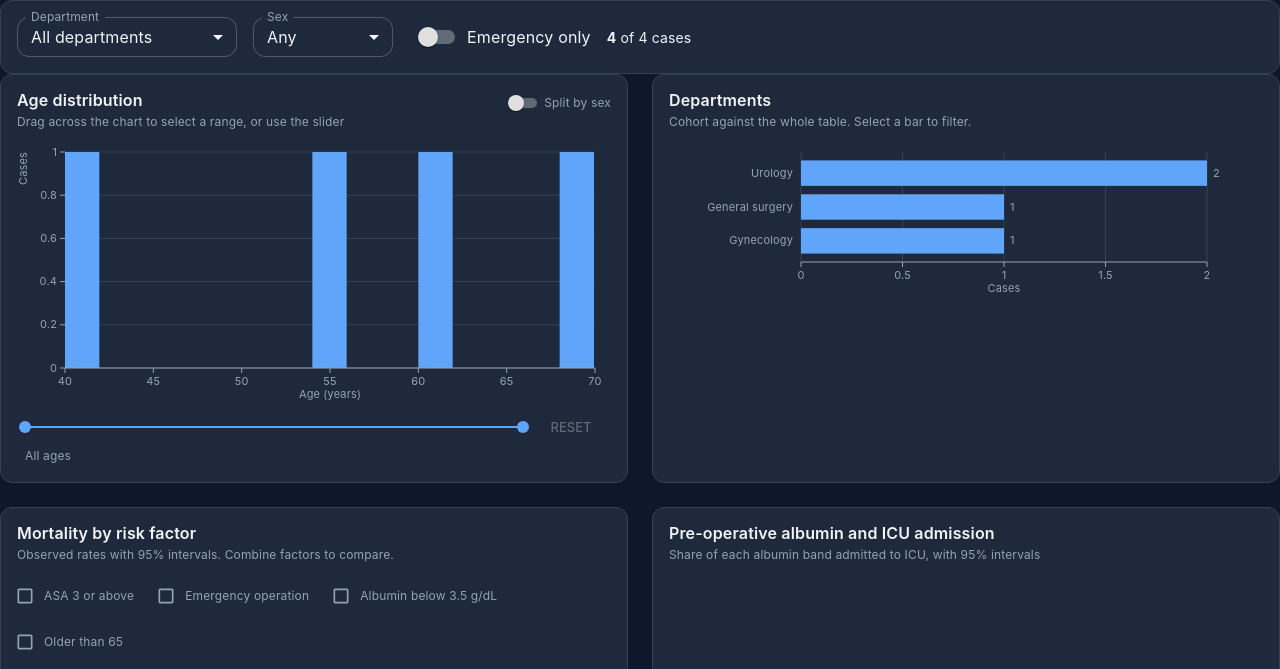
Scenario: DashboardContent › narrows the cohort when a filter is applied
Expected: the text "4 of 4 cases" is shown, [607,26,691,48]
Click the dropdown labelled "department".
click(92, 36)  # box [31,26,152,46]
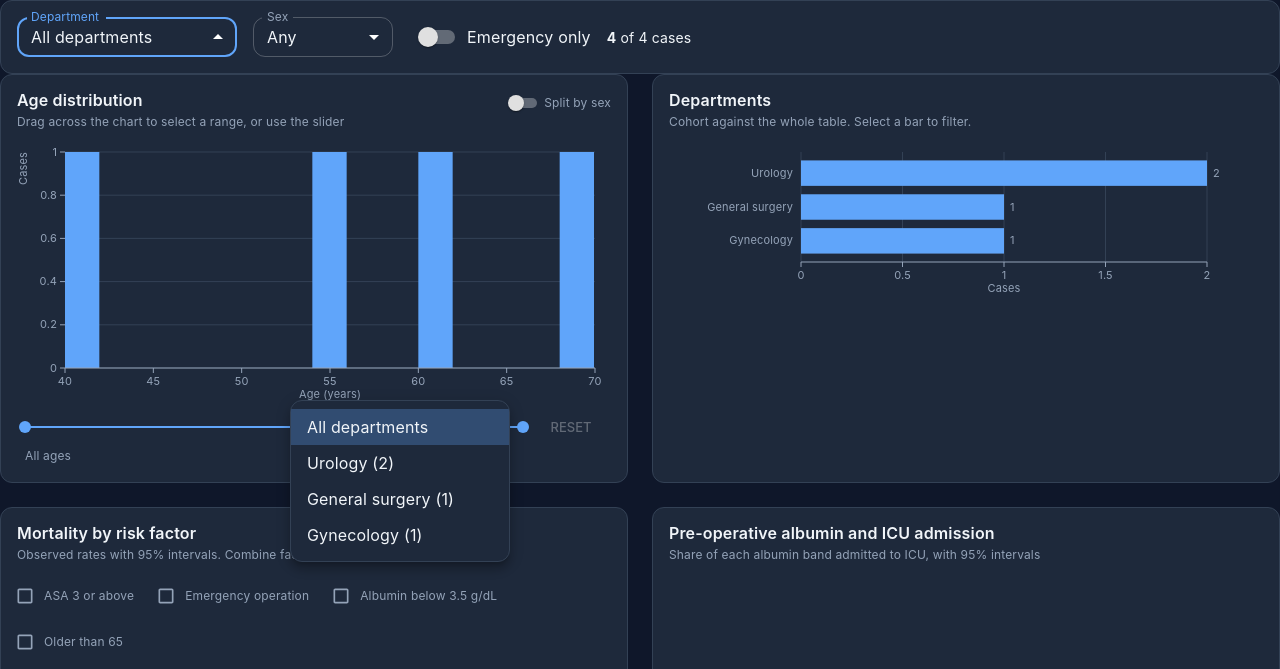
Click the option "Urology (2)".
click(351, 463)  # box [307,453,394,473]
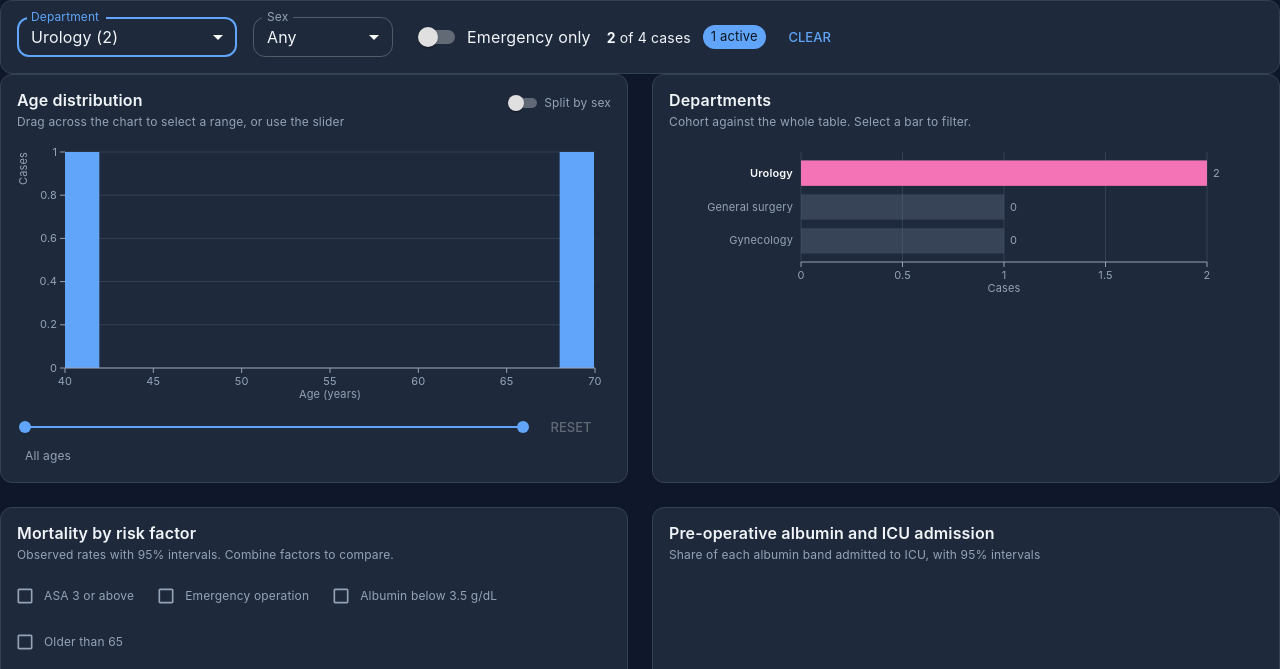
Result: the text "2 of 4 cases" is shown at [607,26,691,48]
